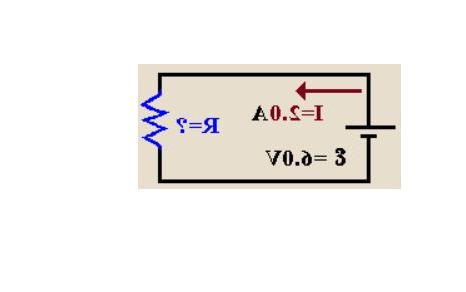resistor: (137, 82, 169, 151)
